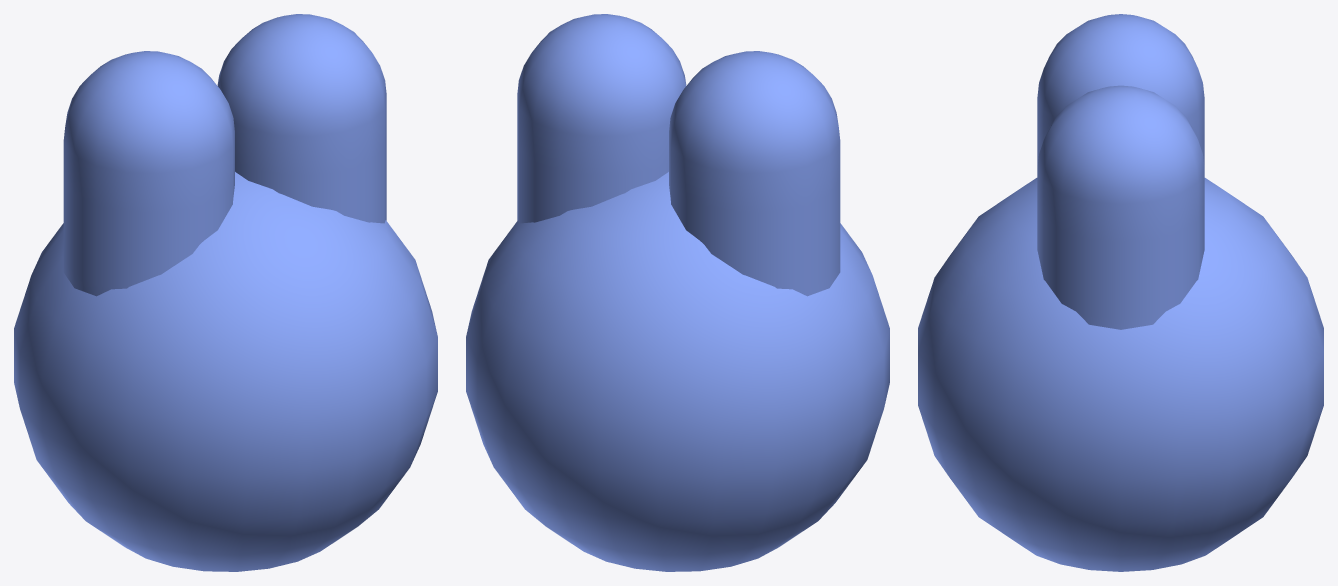
The model's file is Head1.glb.
The picture shows the model from 3 angles, left to right: view 1: azimuth 30°, elevation 25°; view 2: azimuth 150°, elevation 25°; view 3: azimuth 270°, elevation 25°; orthographic projection. The views are drawn at different scales.
Visible parts, largest first — view 1: Head_Bunny; view 2: Head_Bunny; view 3: Head_Bunny.
Boxes of the visible parts, x1,y1,x2,y2 form: Head_Bunny: (14, 14, 437, 571); Head_Bunny: (466, 14, 889, 571); Head_Bunny: (918, 14, 1323, 571).
Size of the model in its own units: 245 by 328 by 243.
